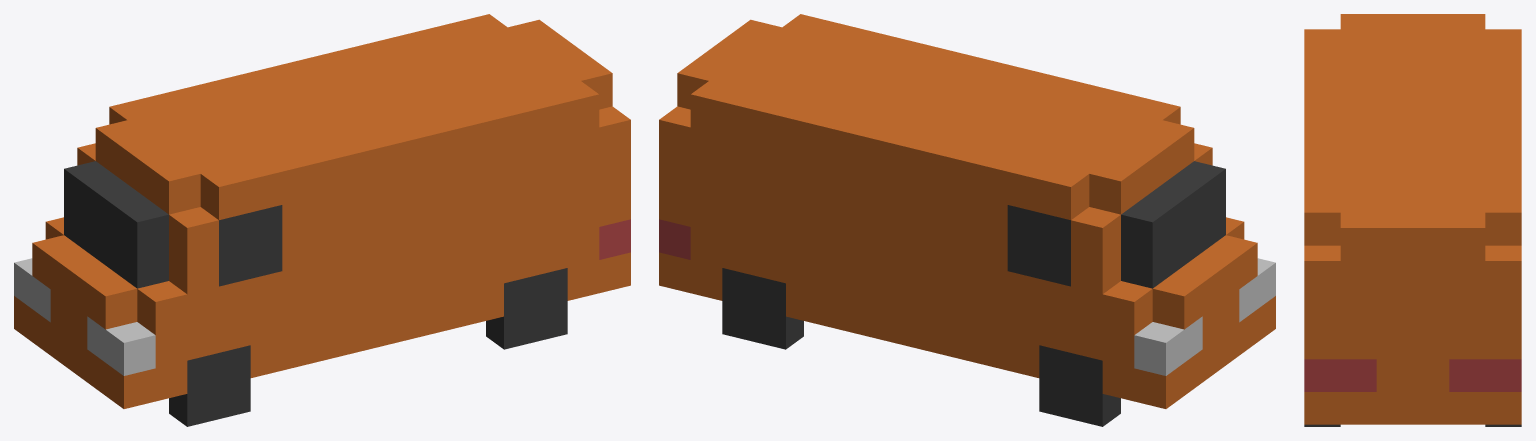
File: truck-v1-orange.gltf
The picture shows the model from 3 angles, left to right: view 1: azimuth 30°, elevation 25°; view 2: azimuth 150°, elevation 25°; view 3: azimuth 270°, elevation 25°; orthographic projection.
Visible parts, largest first — view 1: model, wheels; view 2: model, wheels; view 3: model, wheels.
Boxes of the visible parts, x1,y1,x2,y2 form: model: [14, 14, 630, 408]; wheels: [169, 268, 567, 426]; model: [659, 14, 1275, 408]; wheels: [722, 268, 1120, 426]; model: [1304, 14, 1521, 424]; wheels: [1304, 424, 1521, 426].
Size of the model in its own units: 1.6 by 0.7 by 0.6.
Materials: 2 (2 with a texture image).
